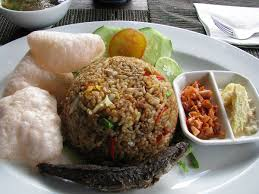Nasi goreng: (65, 56, 180, 162)
